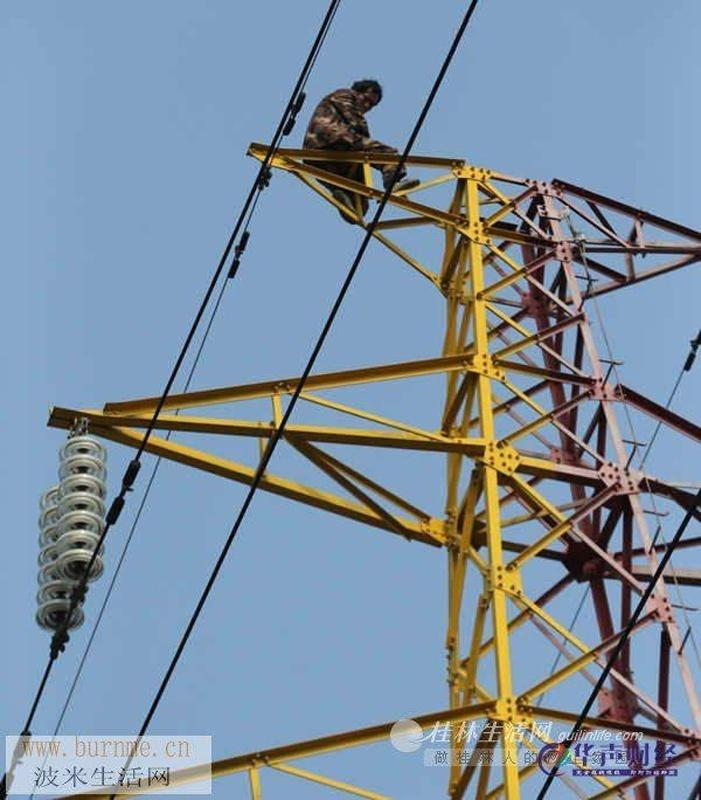power_tower: (69, 121, 692, 701)
